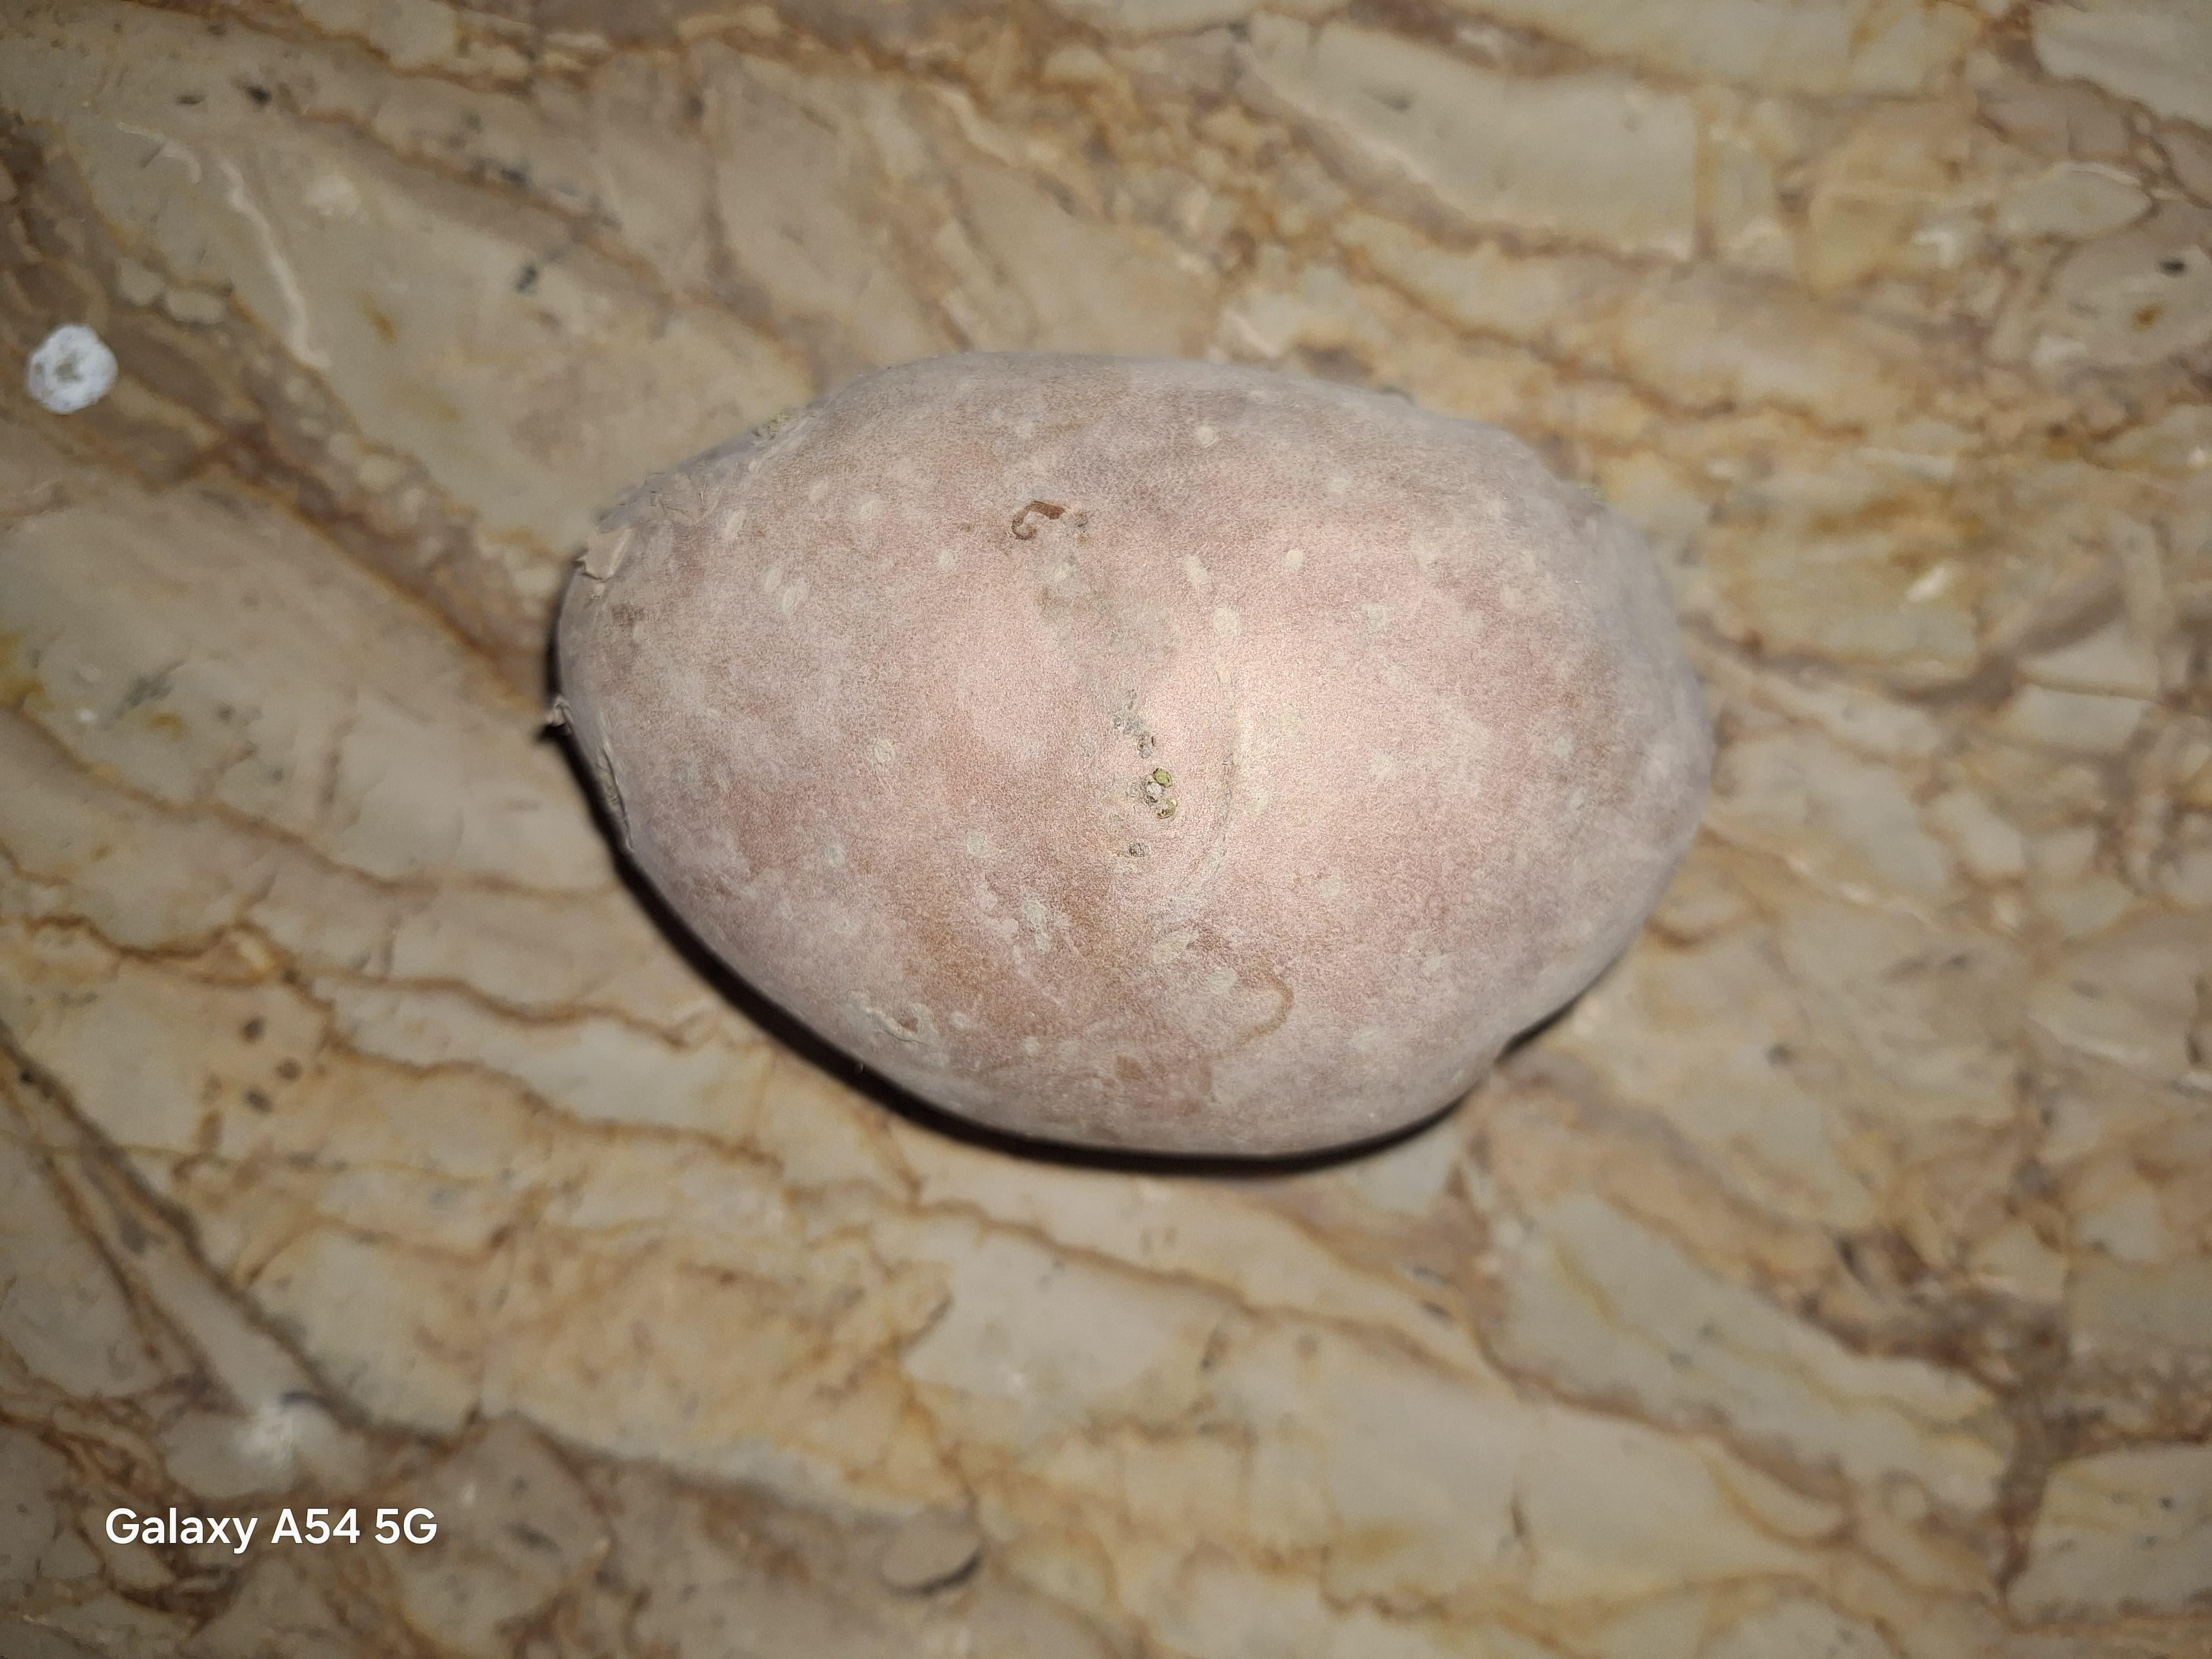non-mango: (547, 345, 1717, 1169)
